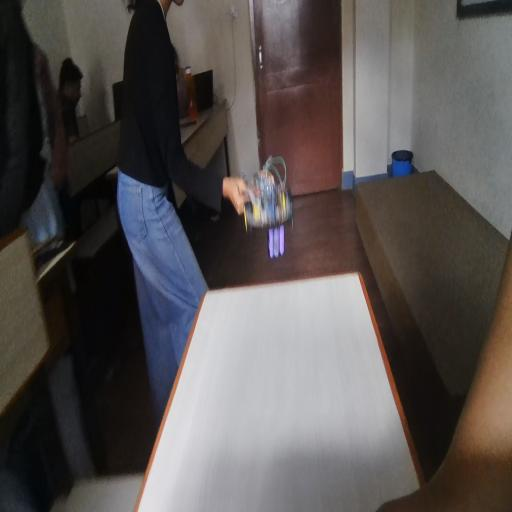car: (244, 167, 315, 276)
